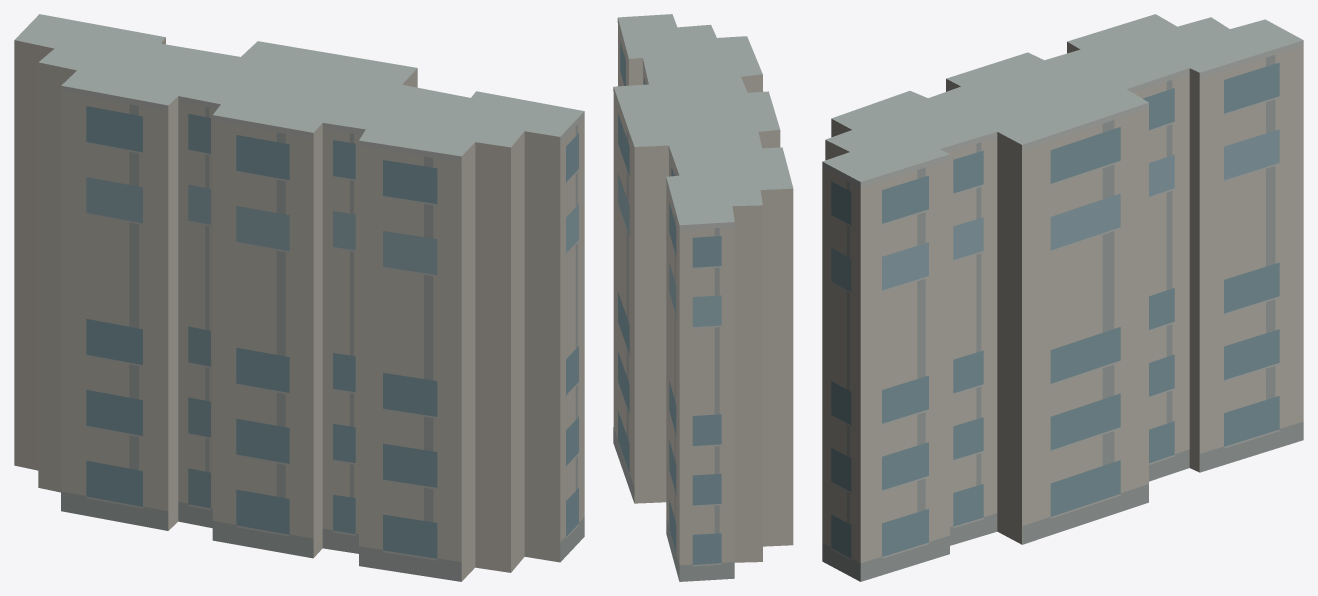
File: survey-upis-32807870.glb
3 renders of one model, left to right at view 1: azimuth 30°, elevation 25°; view 2: azimuth 150°, elevation 25°; view 3: azimuth 270°, elevation 25°, orthographic. The views are drawn at different scales.
Visible parts, largest first — view 1: survey-upis-32807870.tmp; view 2: survey-upis-32807870.tmp; view 3: survey-upis-32807870.tmp.
Part boxes in pixels (x1=…): survey-upis-32807870.tmp: x1=14, y1=14, x2=584, y2=581; survey-upis-32807870.tmp: x1=613, y1=14, x2=793, y2=581; survey-upis-32807870.tmp: x1=822, y1=14, x2=1303, y2=581.
Size of the model in its own units: 15.65 by 17.35 by 18.94.
